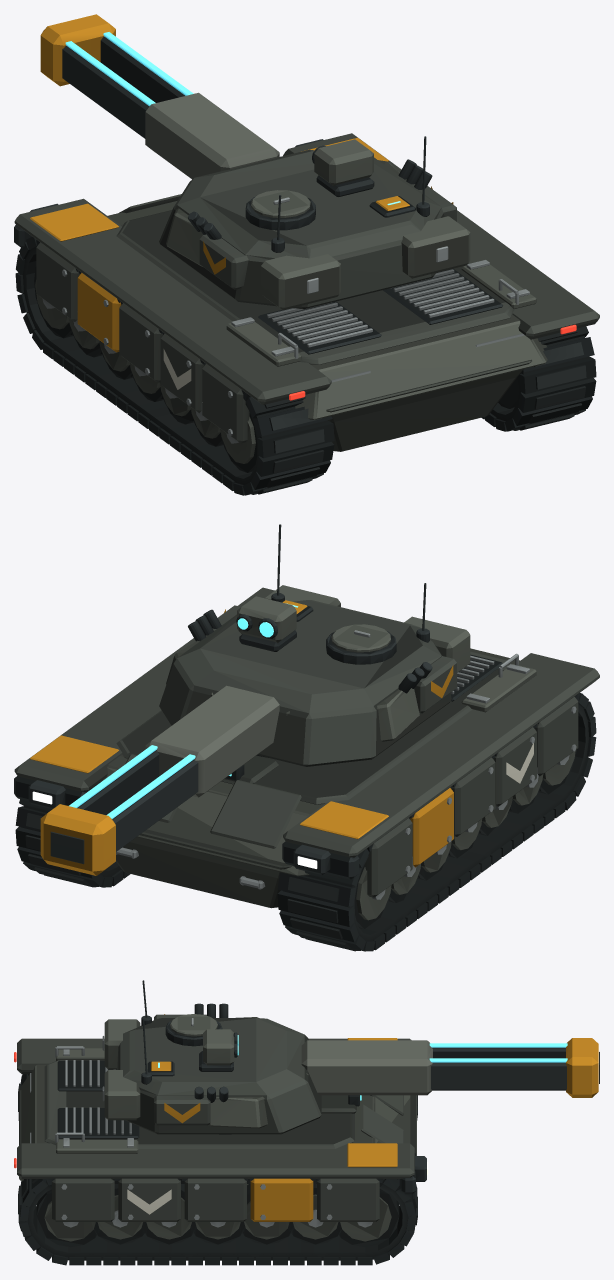
Rendered from AdvancedTank.glb.
3 views of the same model, one above another, from view 1: azimuth 30°, elevation 25°; view 2: azimuth 150°, elevation 25°; view 3: azimuth 270°, elevation 25° (orthographic). The views are drawn at different scales.
Visible parts, largest first — view 1: export_AdvancedTank_HullMesh, export_AdvancedTank_TurretMesh, export_AdvancedTank_RailHousing, export_AdvancedTank_TrackLeftMesh, export_AdvancedTank_TrackRightMesh; view 2: export_AdvancedTank_HullMesh, export_AdvancedTank_TurretMesh, export_AdvancedTank_RailHousing, export_AdvancedTank_TrackLeftMesh, export_AdvancedTank_TrackRightMesh; view 3: export_AdvancedTank_HullMesh, export_AdvancedTank_TurretMesh, export_AdvancedTank_RailHousing, export_AdvancedTank_TrackRightMesh.
Boxes of the visible parts, x1,y1,x2,y2 form: export_AdvancedTank_HullMesh: (14, 133, 599, 484); export_AdvancedTank_TurretMesh: (159, 139, 470, 310); export_AdvancedTank_RailHousing: (40, 14, 279, 179); export_AdvancedTank_TrackLeftMesh: (15, 236, 334, 495); export_AdvancedTank_TrackRightMesh: (481, 326, 596, 431); export_AdvancedTank_HullMesh: (14, 587, 599, 940); export_AdvancedTank_TurretMesh: (159, 585, 470, 766); export_AdvancedTank_RailHousing: (40, 685, 279, 875); export_AdvancedTank_TrackLeftMesh: (277, 693, 596, 951); export_AdvancedTank_TrackRightMesh: (15, 782, 130, 887); export_AdvancedTank_HullMesh: (14, 1038, 428, 1260); export_AdvancedTank_TurretMesh: (102, 1003, 321, 1134); export_AdvancedTank_RailHousing: (301, 1038, 599, 1097); export_AdvancedTank_TrackRightMesh: (18, 1178, 417, 1265).
Bounding box in the file's own units: 4.38 × 3.2 × 8.04.
